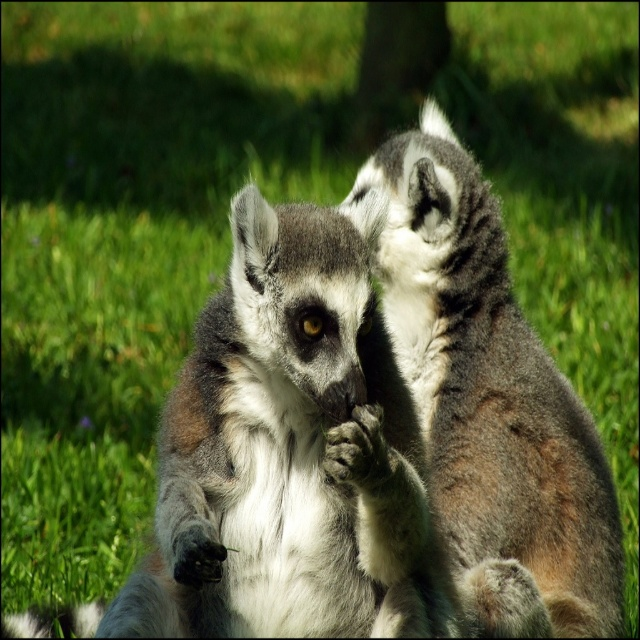Raccoon: (2, 166, 433, 638), (339, 92, 633, 638)
